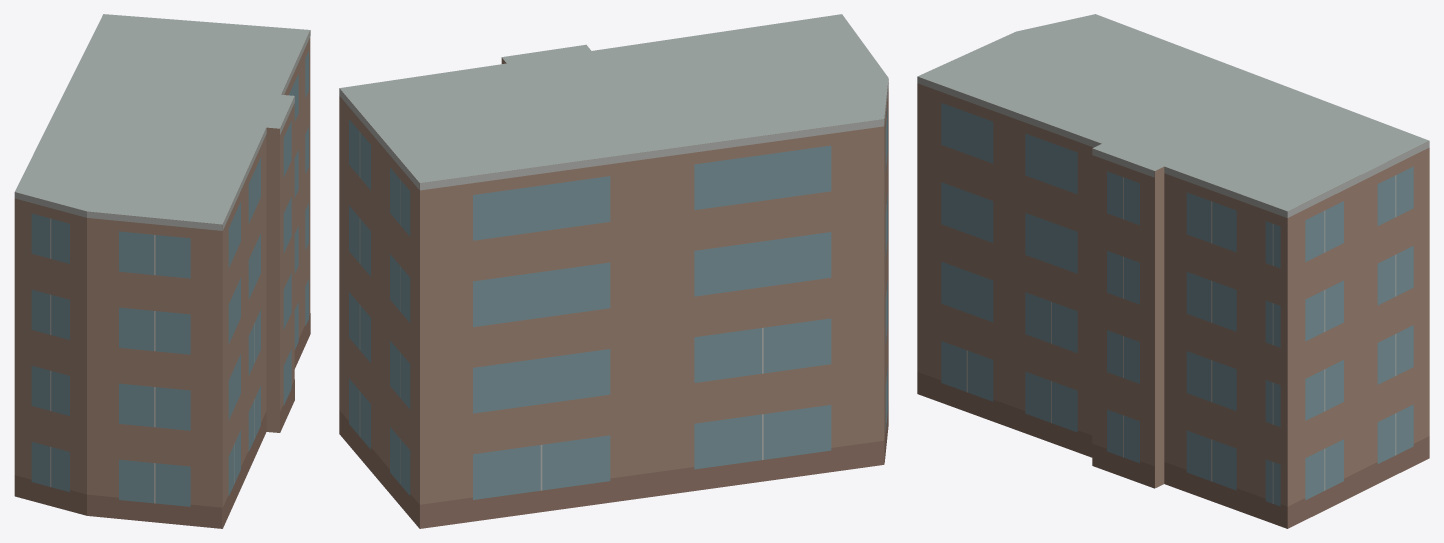
File: survey-upis-33007436.glb
3 renders of one model, left to right at view 1: azimuth 30°, elevation 25°; view 2: azimuth 150°, elevation 25°; view 3: azimuth 270°, elevation 25°, orthographic. The views are drawn at different scales.
Parts seen in each view (by area): view 1: survey-upis-33007436.tmp; view 2: survey-upis-33007436.tmp; view 3: survey-upis-33007436.tmp.
Part boxes in pixels (box(x1,y1,x2,y2)): survey-upis-33007436.tmp: box(14, 14, 310, 528); survey-upis-33007436.tmp: box(339, 14, 888, 528); survey-upis-33007436.tmp: box(917, 14, 1429, 528).
Bounding box in the file's own units: 15.41 × 11.55 × 16.9.
